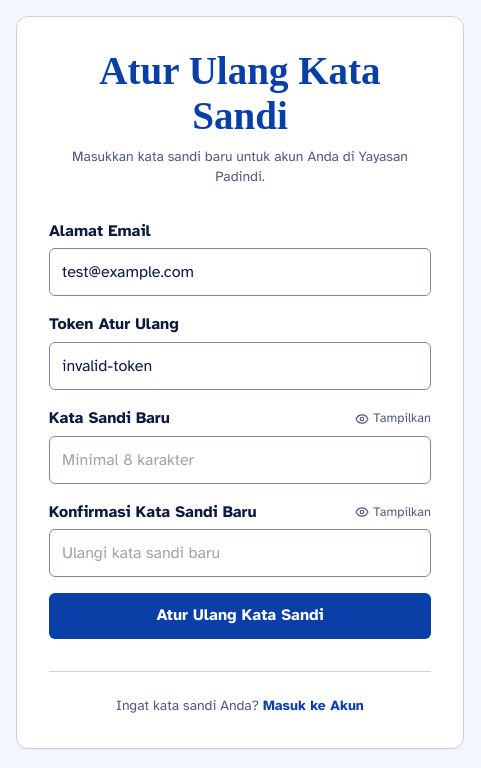
Scenario: ResetPasswordPage › menampilkan pesan galat dari backend jika token tidak valid
Type "KataSandi123" into the password field labelled "Kata Sandi Baru" at point(240, 460), box [49, 436, 431, 484]
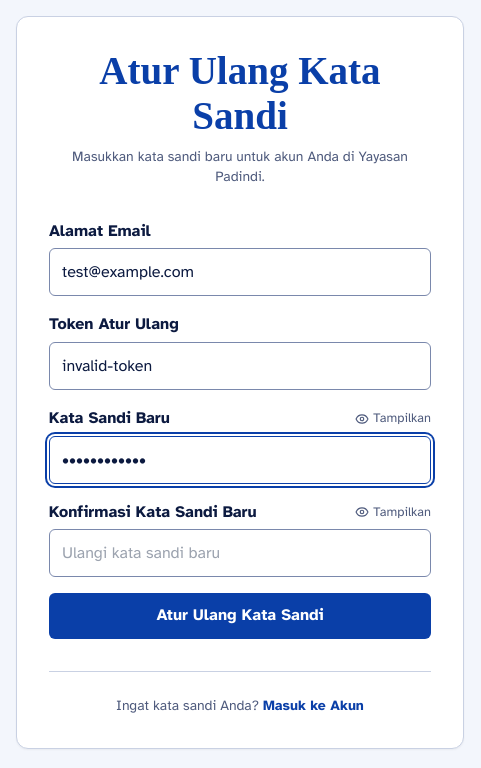
Type "KataSandi123" into the password field labelled "Konfirmasi Kata Sandi Baru" at point(240, 553), box [49, 529, 431, 577]
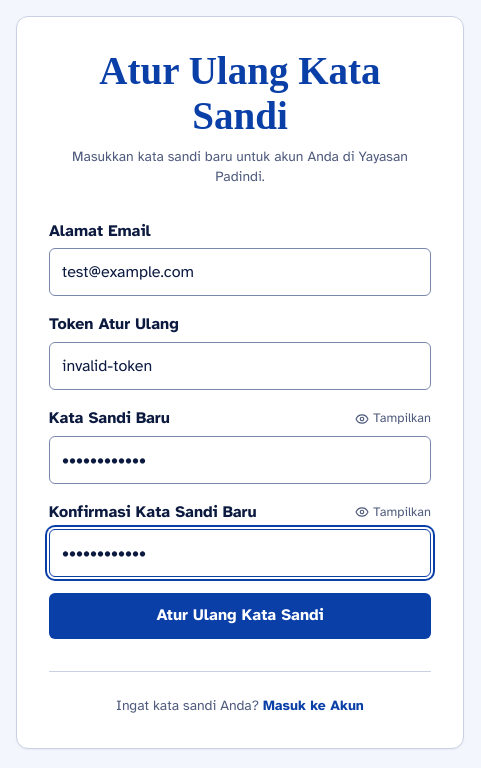
Click the button "Atur Ulang Kata Sandi" at point(240, 616), box [49, 593, 431, 639]
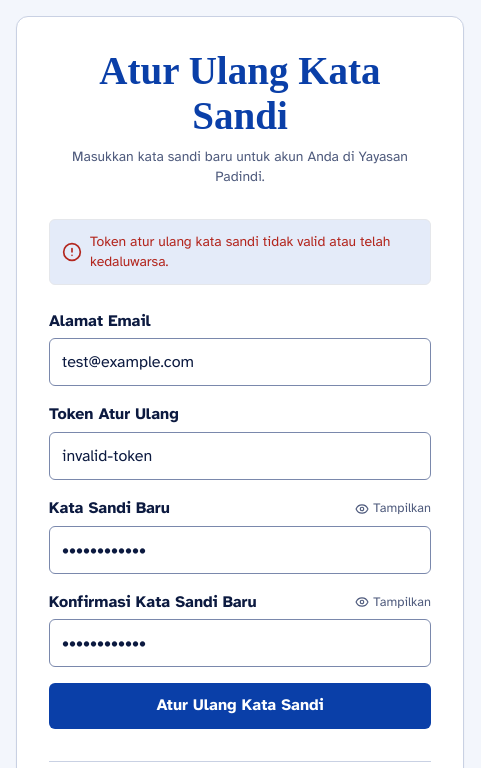
Now the text "Token atur ulang kata sandi tidak valid atau telah kedaluwarsa." is shown, box [90, 232, 418, 272]
